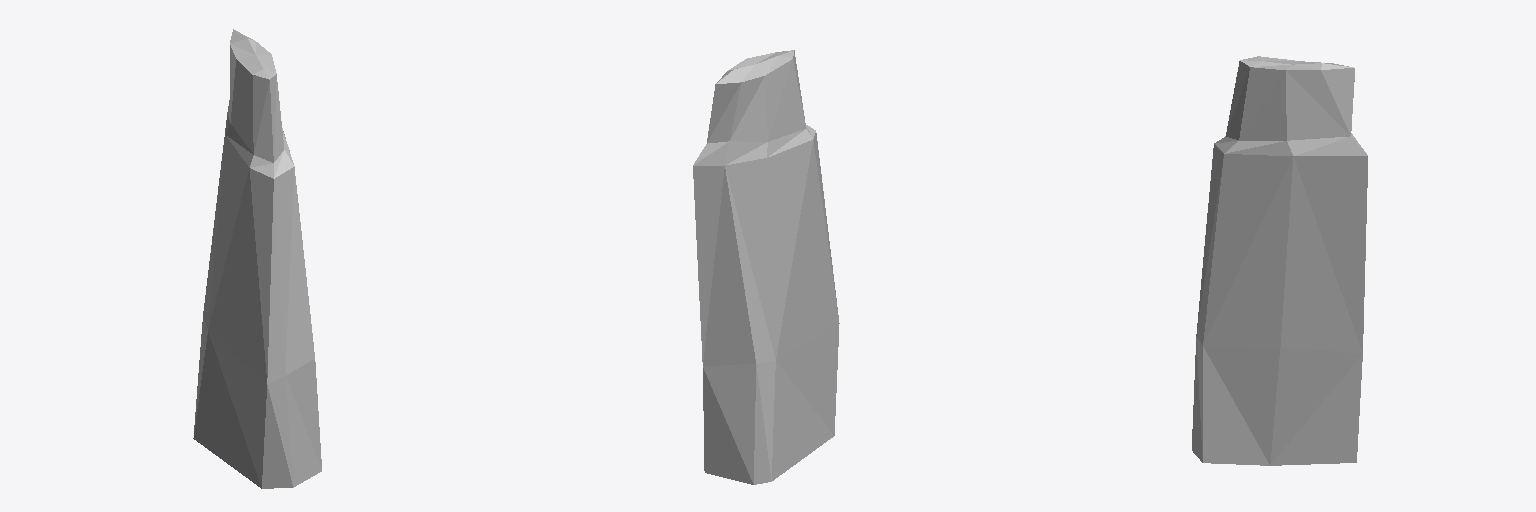
The model's file is Roccia_1.obj.
3 renders of one model, left to right at view 1: azimuth 30°, elevation 25°; view 2: azimuth 150°, elevation 25°; view 3: azimuth 270°, elevation 25°, orthographic.
Parts seen in each view (by area): view 1: Roccia_LP; view 2: Roccia_LP; view 3: Roccia_LP.
Boxes of the visible parts, x1=… form: Roccia_LP: x1=193, y1=29, x2=321, y2=488; Roccia_LP: x1=693, y1=50, x2=839, y2=484; Roccia_LP: x1=1192, y1=56, x2=1367, y2=465.
Bounding box in the file's own units: 0.2478 × 1.42 × 0.5729.